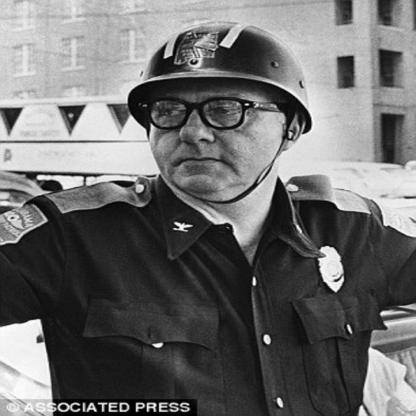Helmet: (125, 19, 317, 203)
